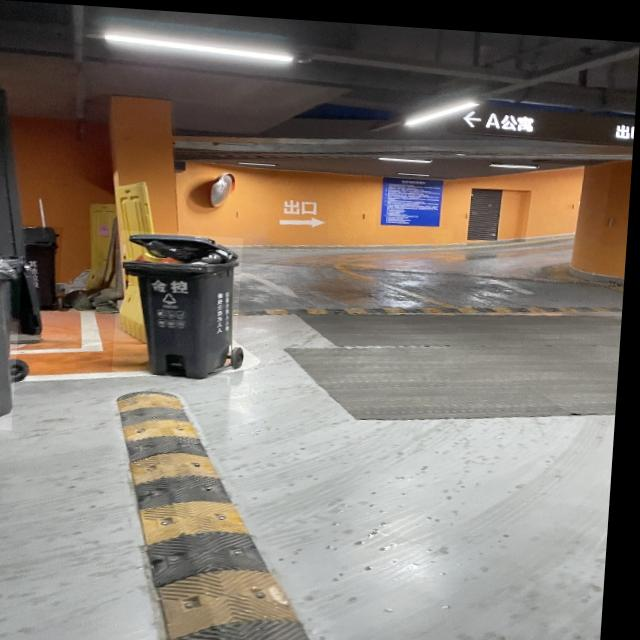garbage_bin: (0, 254, 27, 430), (21, 224, 66, 309)
overflow: (117, 228, 246, 375)
